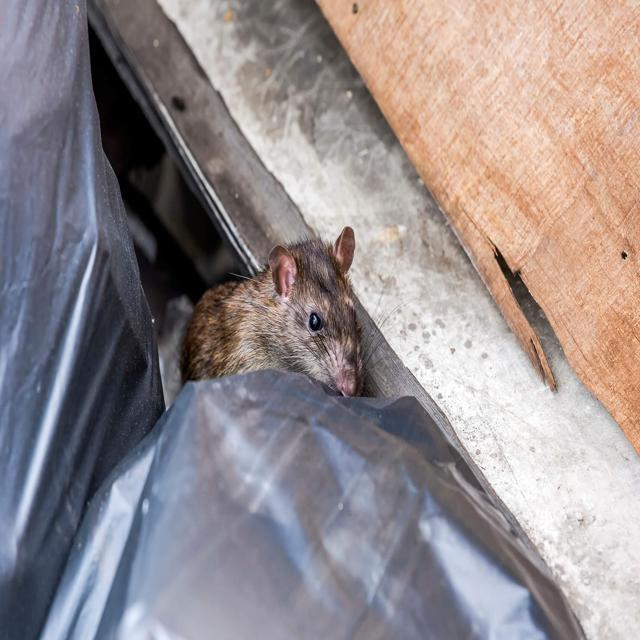rat: (186, 227, 360, 399)
